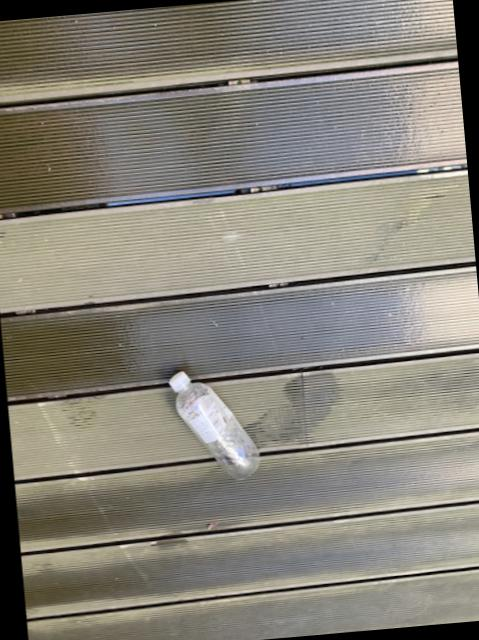plastic: (170, 372, 260, 479)
